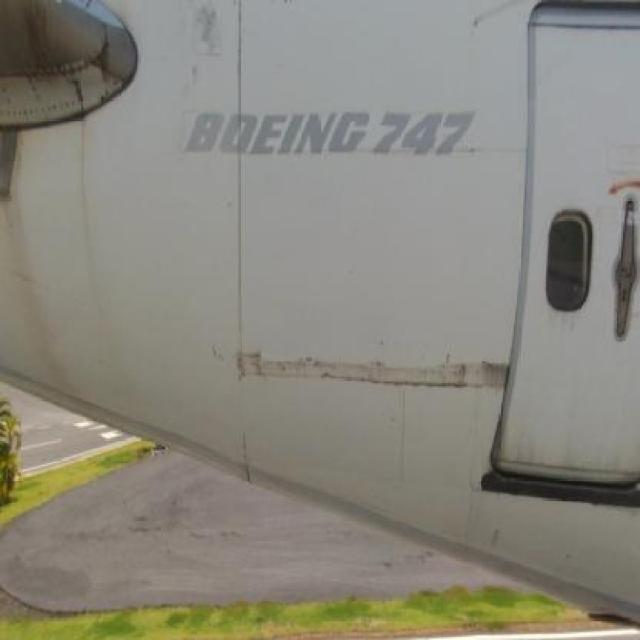Rust: (70, 111, 135, 307), (5, 1, 86, 87), (92, 28, 136, 89), (0, 136, 25, 215)
Scartch: (217, 320, 515, 422), (166, 0, 235, 98)
